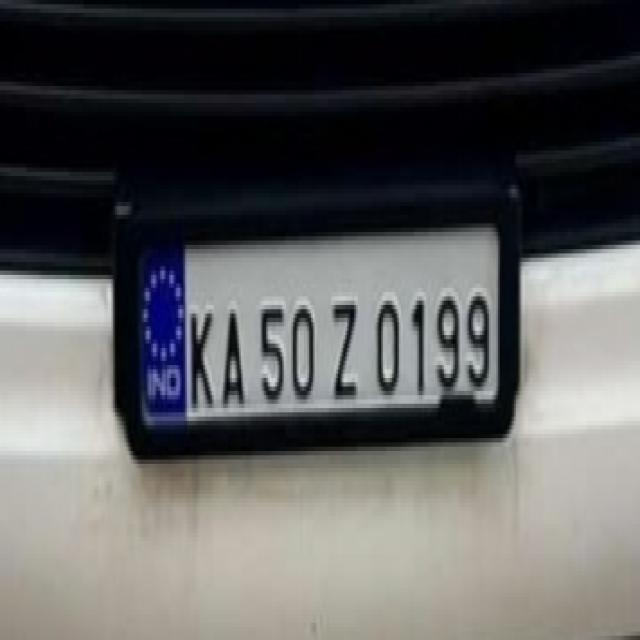0: (372, 283, 404, 399), (287, 289, 316, 403)
1: (412, 283, 429, 403)
5: (257, 295, 289, 408)
9: (464, 289, 493, 394), (437, 289, 463, 396)
A: (219, 298, 248, 413)
K: (187, 296, 216, 413)
Z: (330, 290, 358, 403)
